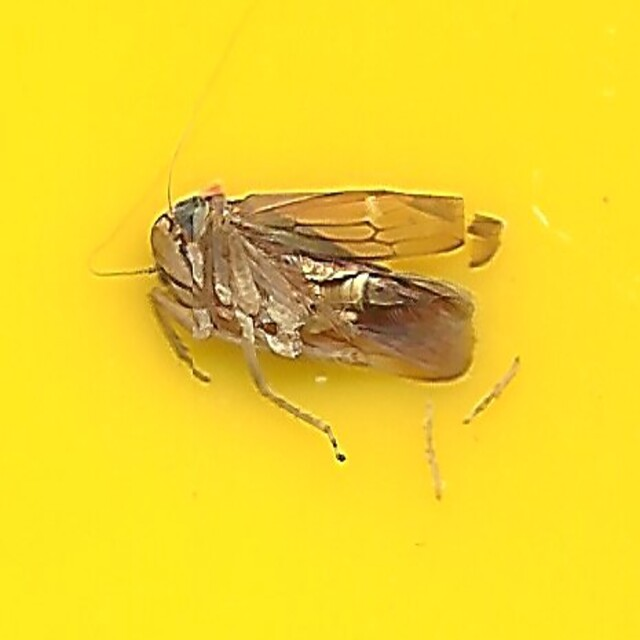Hemiptera: (138, 178, 502, 462)
